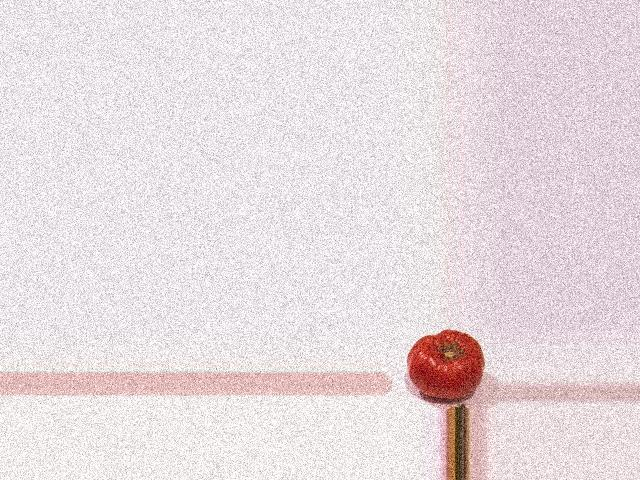tomato: (407, 330, 483, 398)
